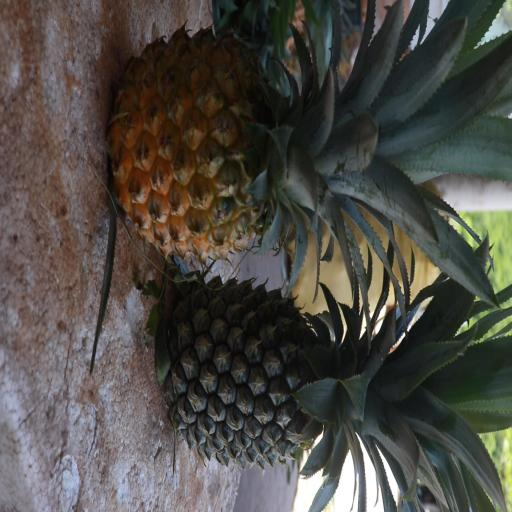Pineapple - v8 v1: (114, 43, 463, 261)
